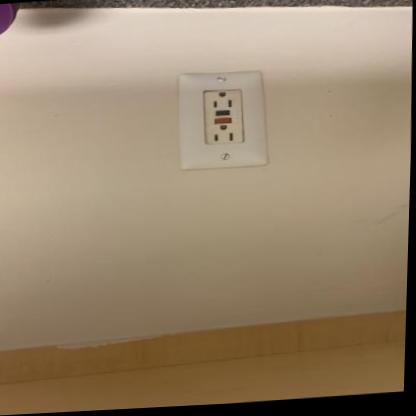OUTLET: (176, 67, 270, 173)
